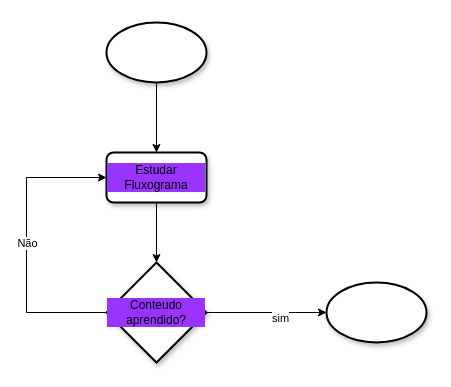
The diagram is 451 pixels wide and 387 high, and some of its shapes have lost their labels. Here are the shapes that lost their labels. From the top down, the centre of each, then its label:
the point at 157,53: Inicio
the point at 377,313: Fim do aprendizado
